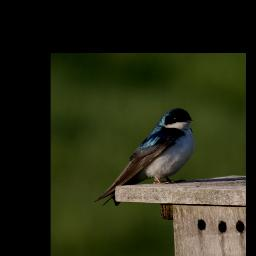Swallow: (93, 107, 197, 212)
